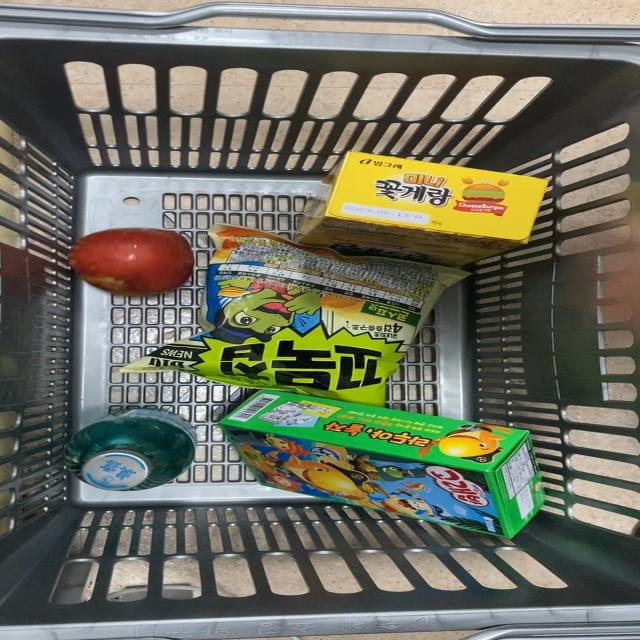ggobukchip: (185, 228, 438, 412)
goraebob: (239, 393, 541, 531)
jinro: (51, 412, 212, 495)
minicrab: (310, 158, 541, 246)
plum: (51, 222, 208, 299)
